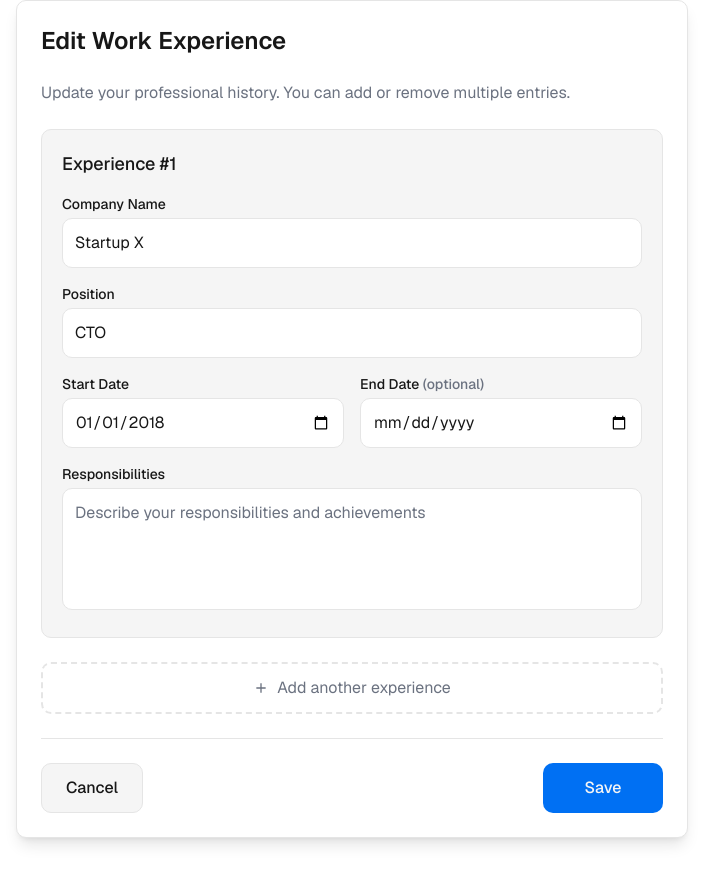
EditWorkExperienceForm Component › Zapisywanie danych i walidacja (PUT) › powinien wyświetlić błędy walidacji (Yup), jeśli usunięto wymagane dane
Clear the field with placeholder "e.g. ABC Inc.": (352, 243) [62,218,642,268]
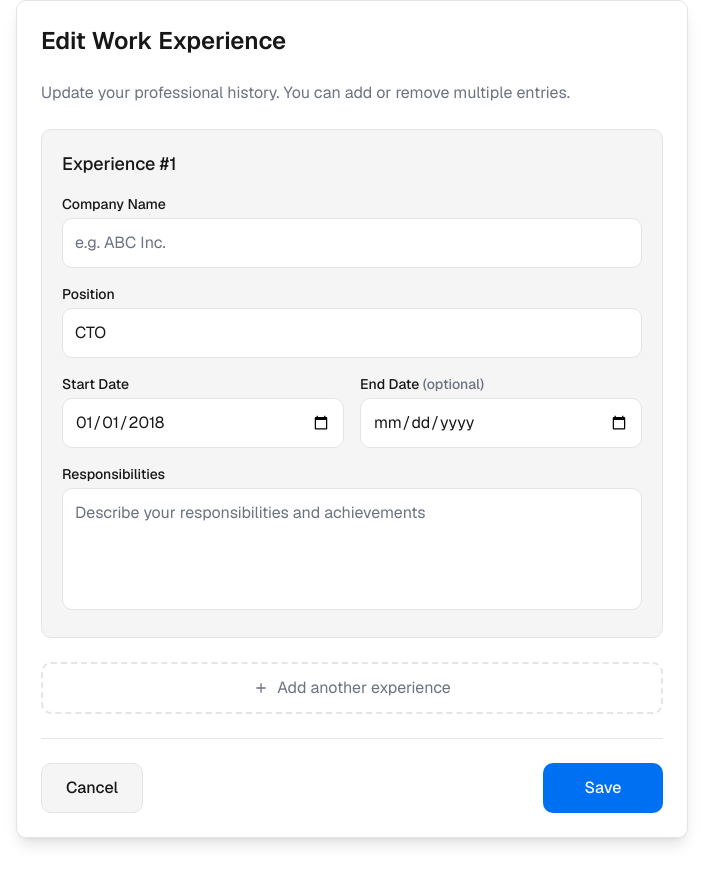
Click the button "Save": (603, 788) [543,763,663,813]
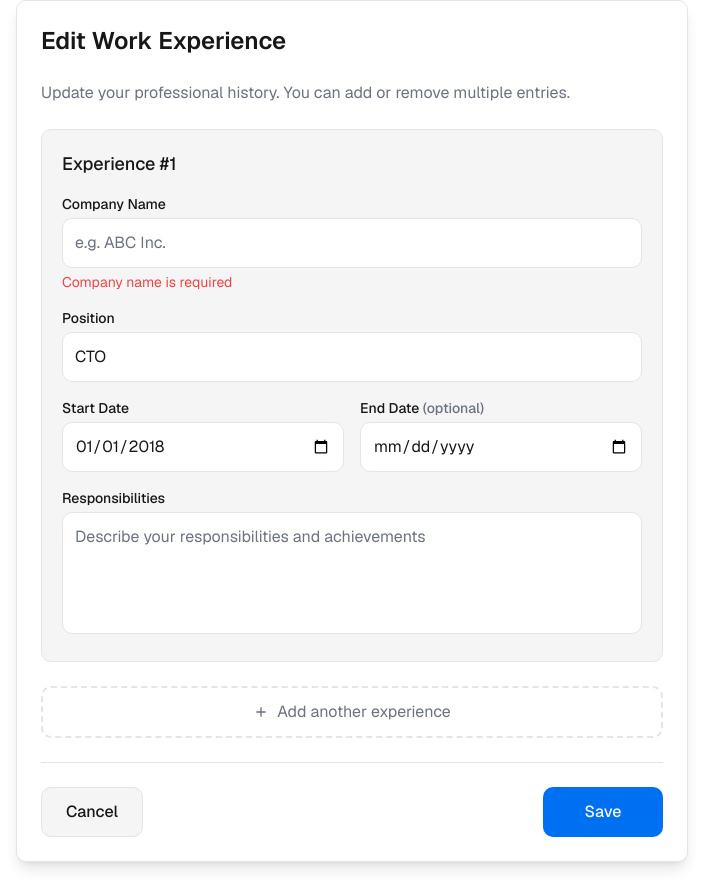
Expected: the text "Company name is required" is shown, [62,273,232,291]
